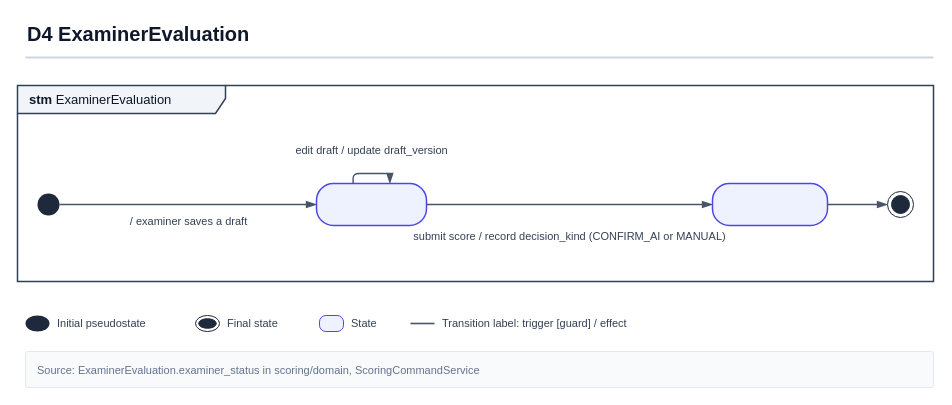
Image size: 952x405. Some labels were removed from this diagram. The box of each missing label's shape, as (x1, y1, x2, y2) in pixels:
DRAFT: (315, 182, 427, 226)
SUBMITTED: (711, 182, 828, 226)
